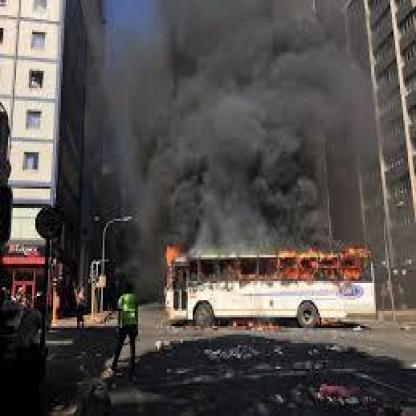fire: (101, 0, 351, 242), (148, 235, 380, 304)
smoke: (101, 5, 352, 242)
